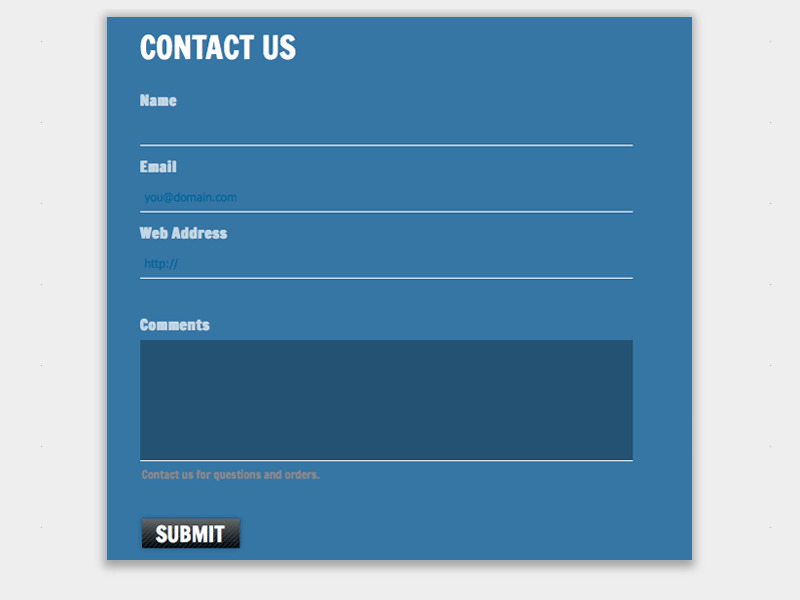_form_: (132, 76, 645, 474), (134, 152, 647, 550)
button: (140, 516, 241, 551)
field: (137, 337, 638, 463)
field_line: (137, 92, 638, 151), (135, 158, 635, 217), (135, 224, 635, 283)
